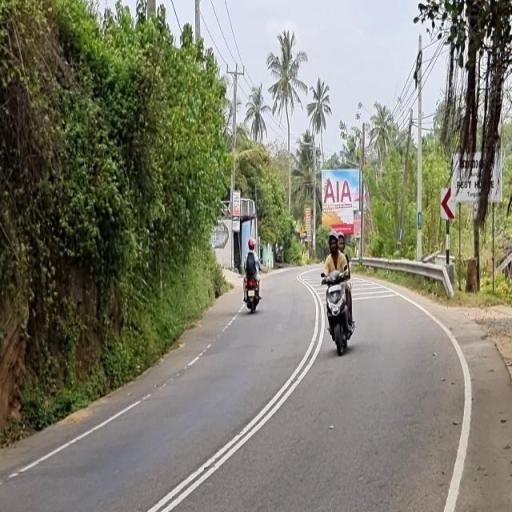double_white_line: (142, 275, 325, 512)
